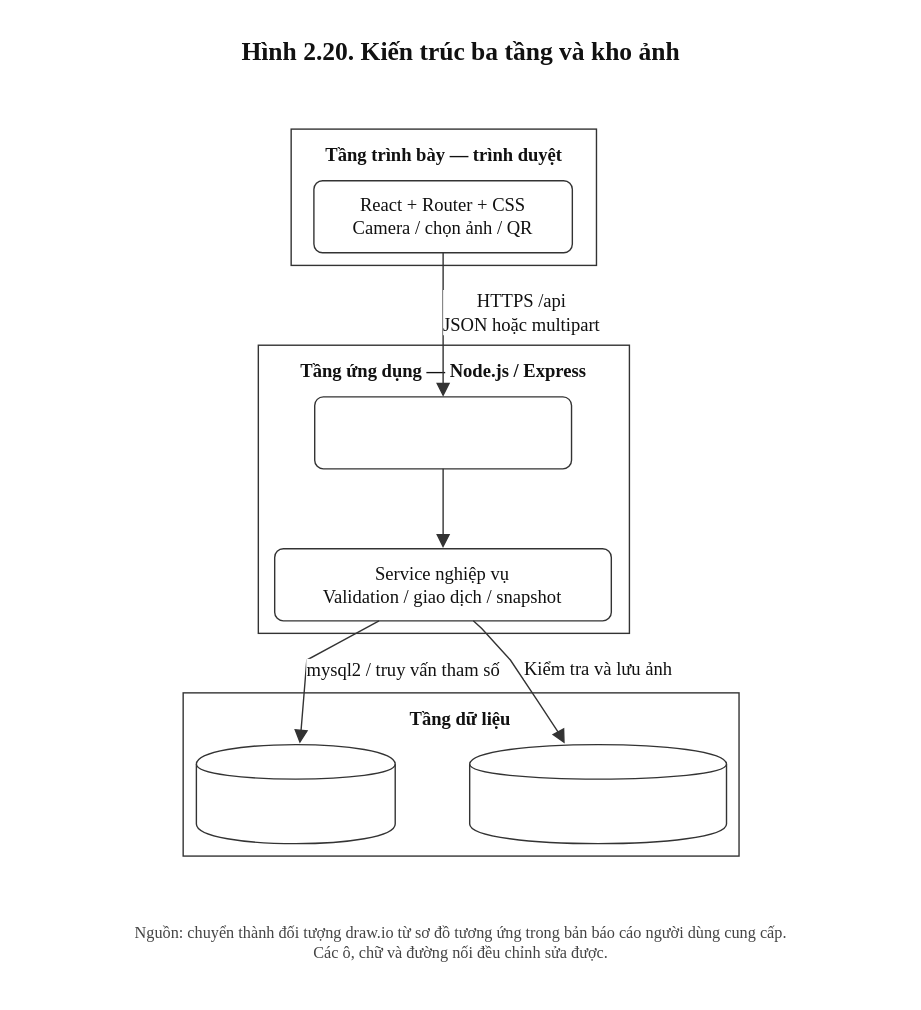
This 921x1010 diagram has some shape labels left out. The shapes that lost their labels are listed below. From the top down, each one's centre as x and y in pixels, then its label:
pixel 442 432: Router + middleware Phiên / quyền / giới hạn
pixel 295 793: MySQL / InnoDB 31 bảng + 8 view
pixel 597 793: Kho tệp ảnh Metadata trong MySQL
